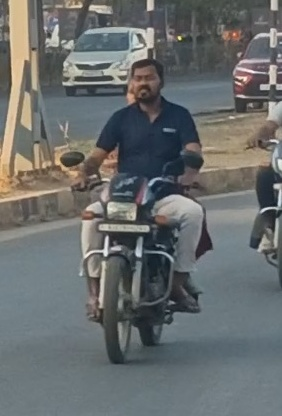BikeWithRider: (56, 56, 217, 369)
NoHelmet: (124, 56, 171, 107)
